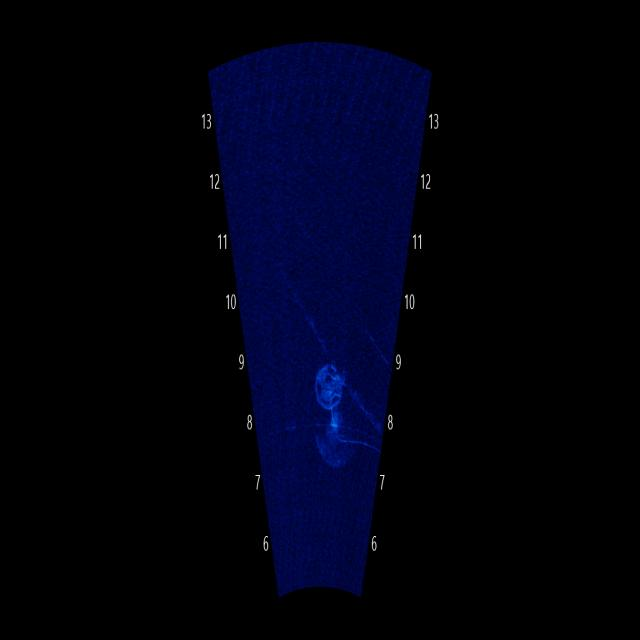circle: (300, 347, 353, 418)
